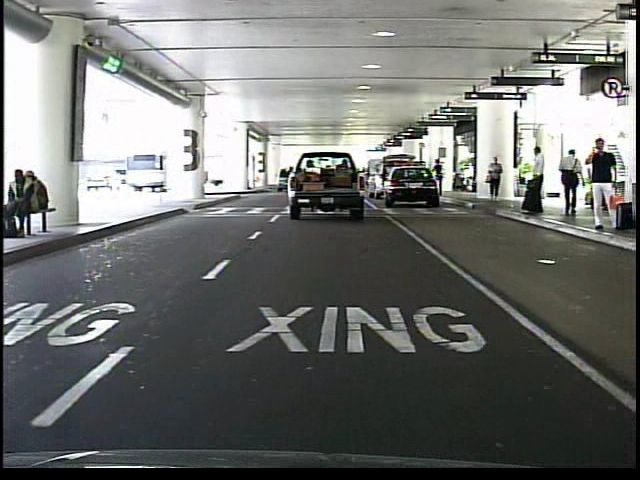person: (584, 137, 623, 238), (522, 144, 549, 220), (558, 144, 585, 219), (485, 156, 507, 206), (433, 159, 446, 199)
